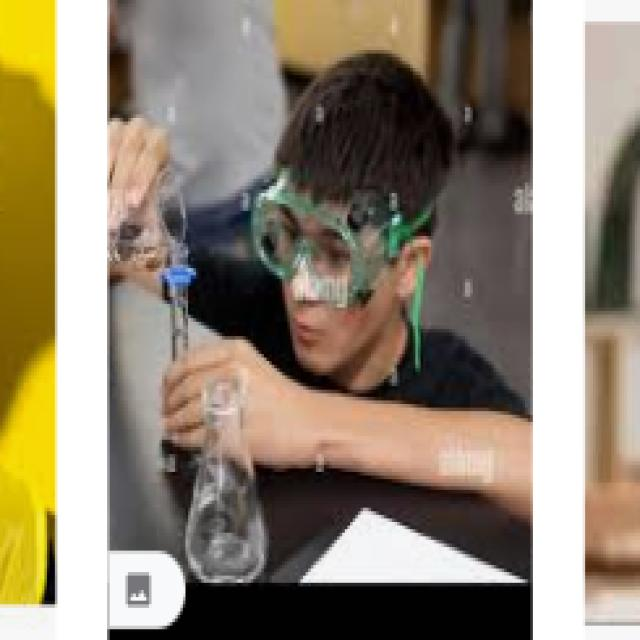glasses: (248, 177, 402, 296)
